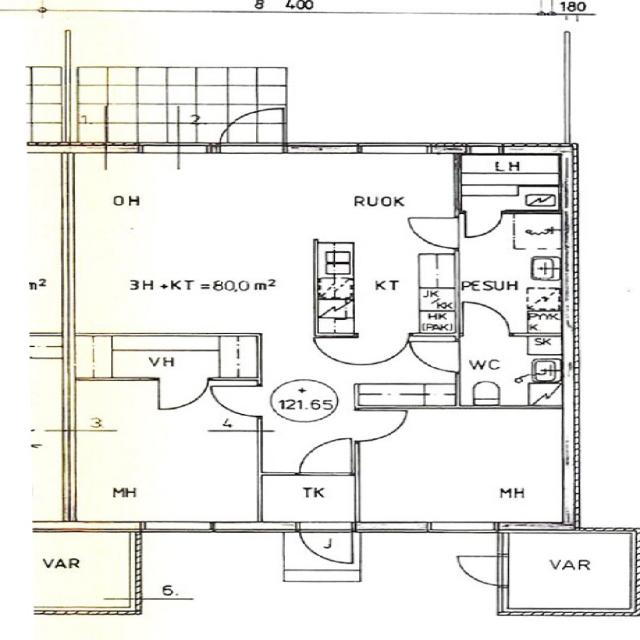door: (220, 102, 283, 153), (299, 521, 352, 565), (299, 440, 350, 476), (358, 332, 408, 368), (451, 556, 508, 586), (209, 386, 262, 416), (354, 410, 407, 440), (406, 341, 459, 371), (406, 218, 459, 248), (159, 377, 207, 410), (463, 304, 509, 336), (465, 211, 501, 236)
